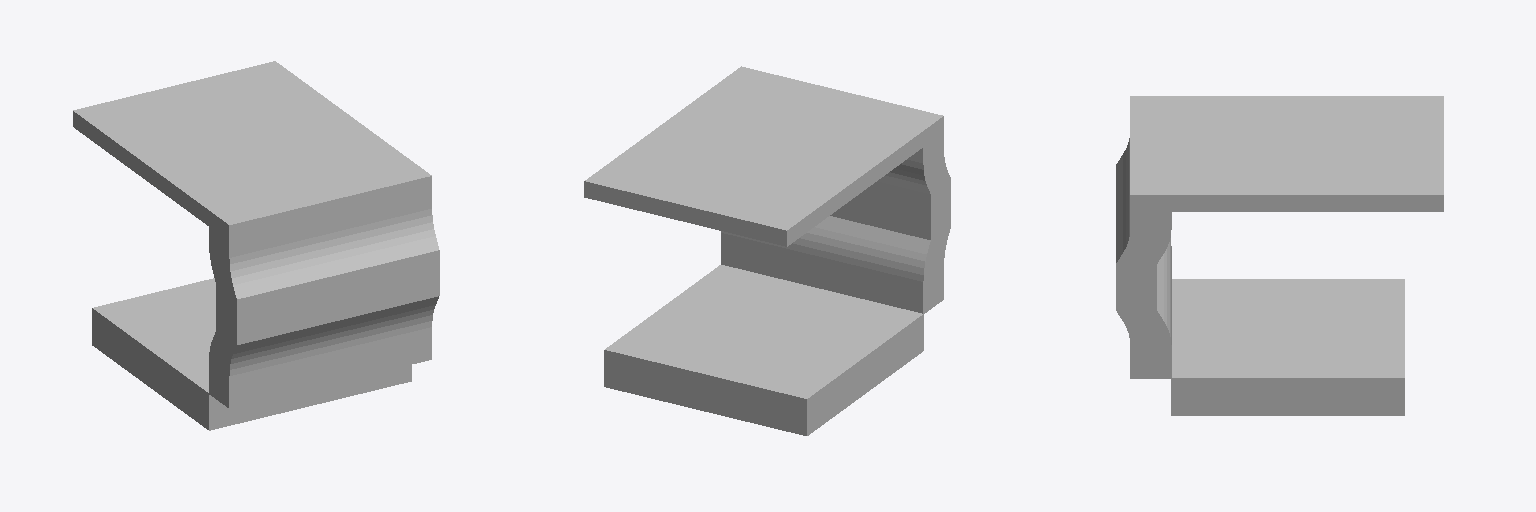
The model's file is Modulo_final.obj.
3 views of the same model, side by side, from view 1: azimuth 30°, elevation 25°; view 2: azimuth 150°, elevation 25°; view 3: azimuth 270°, elevation 25° (orthographic).
Visible parts, largest first — view 1: polySurface5 modulo_recto2, modulo_recto2 polySurface4; view 2: polySurface5 modulo_recto2, modulo_recto2 polySurface4; view 3: polySurface5 modulo_recto2, modulo_recto2 polySurface4.
Boxes of the visible parts, x1=… form: polySurface5 modulo_recto2: x1=73, y1=61, x2=439, y2=408; modulo_recto2 polySurface4: x1=92, y1=278, x2=411, y2=430; polySurface5 modulo_recto2: x1=584, y1=66, x2=950, y2=313; modulo_recto2 polySurface4: x1=604, y1=265, x2=923, y2=435; polySurface5 modulo_recto2: x1=1116, y1=96, x2=1443, y2=378; modulo_recto2 polySurface4: x1=1171, y1=279, x2=1404, y2=415.
Bounding box in the file's own units: 570 × 590 × 798.